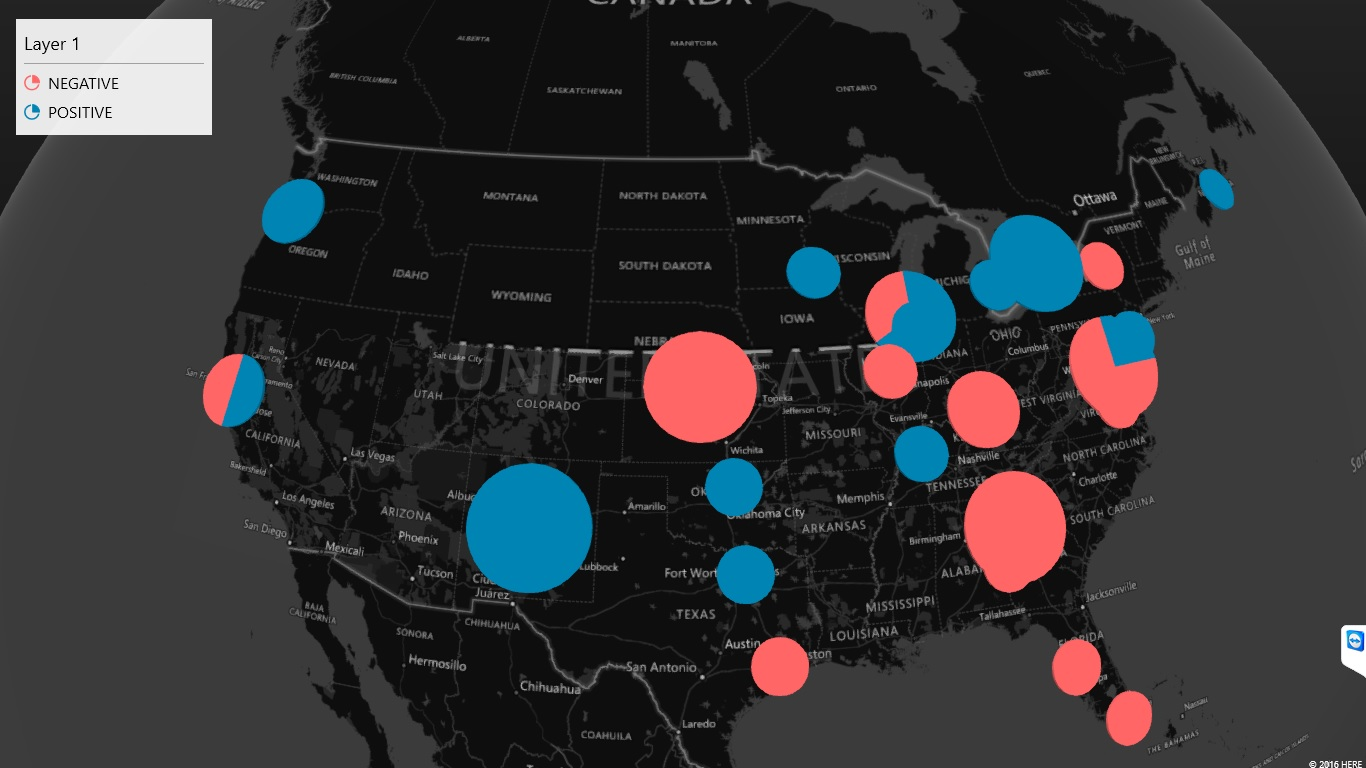

The dashboard page shown, as its layout file describes it:
{"tool":"tableau","page":{"name":"Dashboard 1","canvas":[1000,800],"ordinal":0},"visuals":[{"type":"worksheet","title":"Sheet 1","mark":"Circle","box":[0,0,683,400]},{"type":"worksheet","title":"Sheet 2","mark":"Pie","box":[683,0,317,400]},{"type":"worksheet","title":"Sheet 3","mark":"Automatic","box":[0,400,518,400]},{"type":"worksheet","title":"Sheet 4","mark":"Automatic","rows":["fullname","merchant_category_code"],"cols":["total"],"box":[518,400,482,400]}]}

Visuals, with their boxes on the page's 1000x800 design canvas (x1, y1, x2, y2). These are canvas units, not pixel positions in the 1366x768 screenshot, which may show the page scaled, cropped or inside an application window:
"Sheet 1" worksheet (Circle marks): Rect(0, 0, 683, 400)
"Sheet 2" worksheet (Pie marks): Rect(683, 0, 1000, 400)
"Sheet 3" worksheet: Rect(0, 400, 518, 800)
"Sheet 4" worksheet: Rect(518, 400, 1000, 800)
